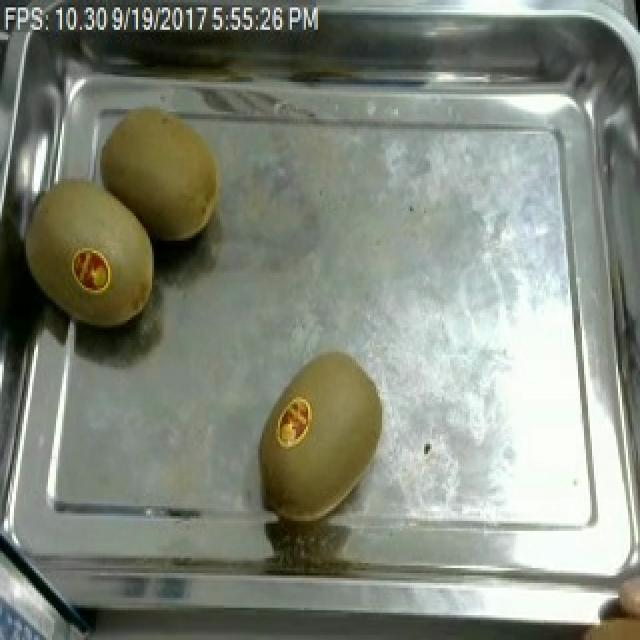Fruit: (10, 166, 170, 340), (248, 342, 392, 531), (88, 104, 234, 251), (554, 603, 640, 640)
